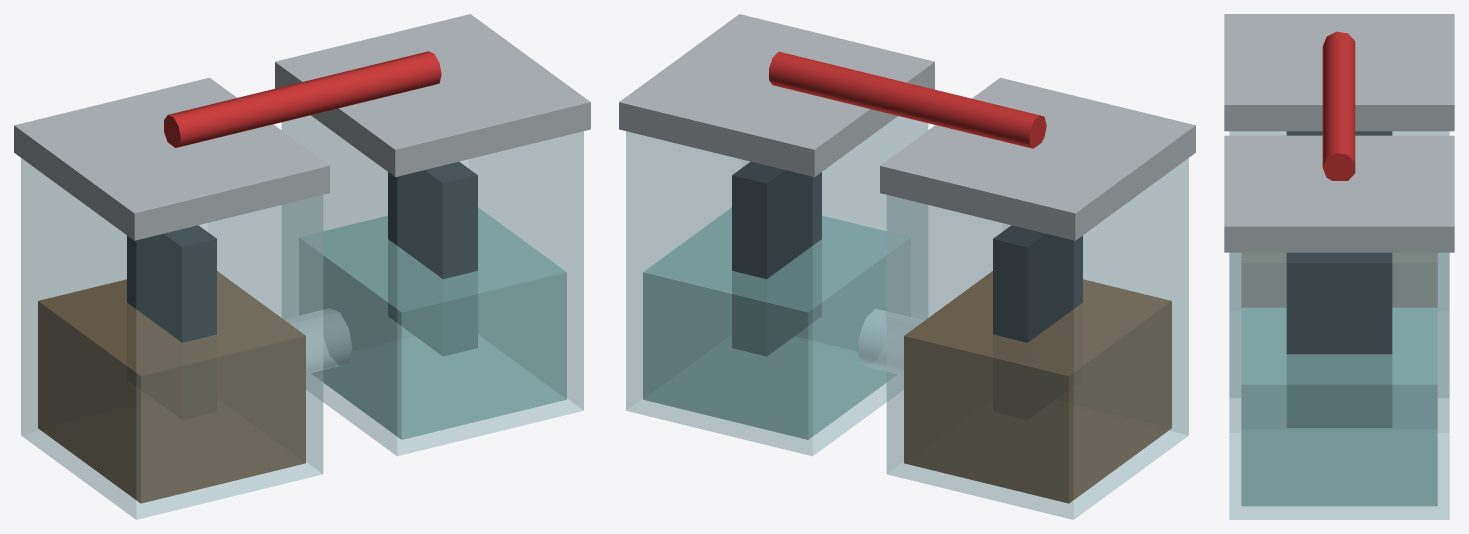
The model's file is catalogue-bio-battery.glb.
The picture shows the model from 3 angles, left to right: view 1: azimuth 30°, elevation 25°; view 2: azimuth 150°, elevation 25°; view 3: azimuth 270°, elevation 25°; orthographic projection. The views are drawn at different scales.
Bounding box in the file's own units: 1.05 × 0.7445 × 0.48.
